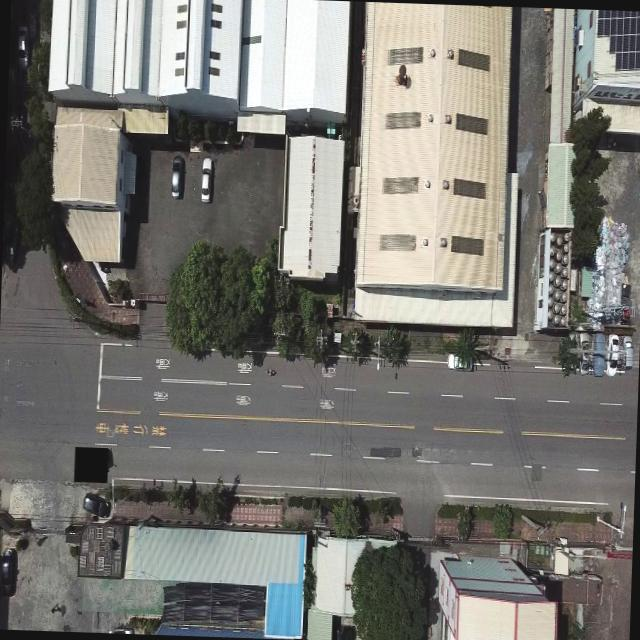bike: (260, 366, 278, 381)
car: (0, 547, 23, 595), (196, 154, 216, 206), (76, 491, 112, 519), (168, 150, 186, 198), (603, 334, 620, 376), (620, 338, 636, 380)
